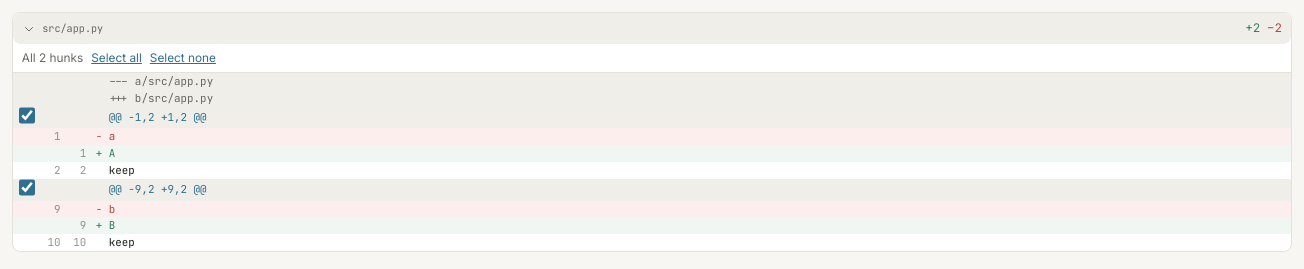
Scenario: DiffView per-hunk acceptance › declining a hunk says so, and says how many are left
This screenshot has width=1304, height=269.
Click the checkbox named "Accept hunk 1 of src/app.py": (27, 115) x1=19 y1=107 x2=35 y2=124
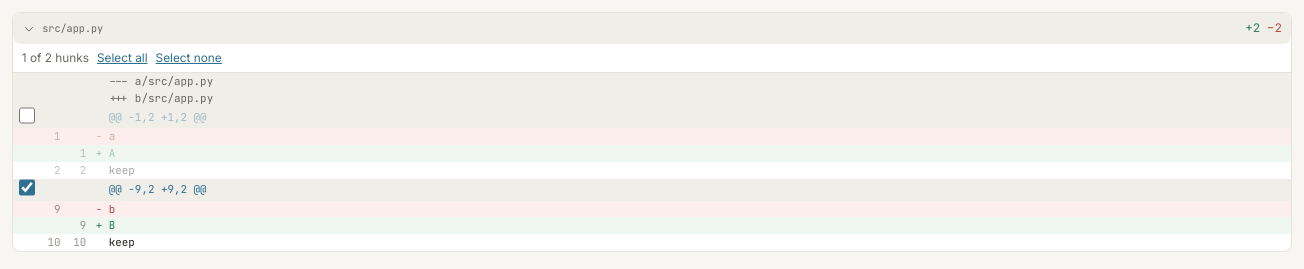
Expected: the checkbox named "Accept hunk 2 of src/app.py" is checked, x1=19 y1=179 x2=35 y2=196
Expected: the checkbox named "Accept hunk 1 of src/app.py" is not checked, x1=19 y1=107 x2=35 y2=124
Expected: the text "1 of 2 hunks Select all Select none" is shown, x1=13 y1=44 x2=1291 y2=73
